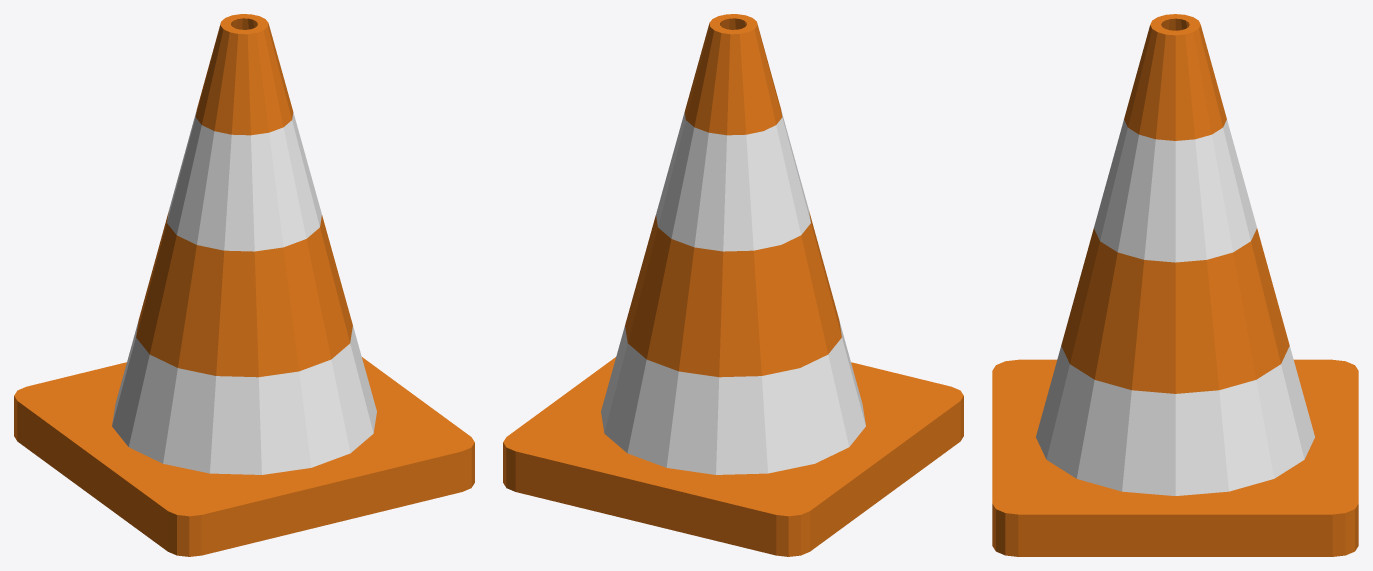
The model's file is Traffic Cone.fbx.
The picture shows the model from 3 angles, left to right: view 1: azimuth 30°, elevation 25°; view 2: azimuth 150°, elevation 25°; view 3: azimuth 270°, elevation 25°; orthographic projection. The views are drawn at different scales.
Visible parts, largest first — view 1: Cube; view 2: Cube; view 3: Cube.
Part boxes in pixels (left/top/right/bottom): Cube: left=14, top=14, right=474, bottom=556; Cube: left=503, top=14, right=963, bottom=556; Cube: left=992, top=14, right=1358, bottom=556.
Bounding box in the file's own units: 237 × 325 × 237.
